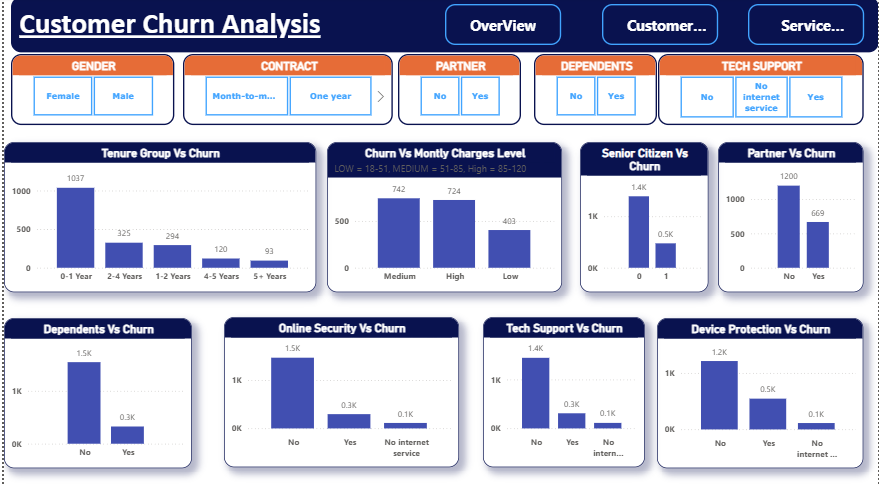

The page's visual inventory and layout, read from the dashboard file:
{"tool":"powerbi","page":{"name":"Customer Segmentation`","canvas":[1280,720],"ordinal":1},"visuals":[{"type":"textbox","box":[10.1,0,1269.9,80.6],"z":0},{"type":"slicer","title":"GENDER","fields":{"Values":["Telco_Customer_Churn.gender"]},"box":[10.1,84,238.5,104.1],"z":7000},{"type":"slicer","title":"CONTRACT","fields":{"Values":["Telco_Customer_Churn.Contract"]},"box":[262,84,307.4,104.1],"z":8000},{"type":"slicer","title":"PARTNER","fields":{"Values":["Telco_Customer_Churn.Partner"]},"box":[576.2,84,179.7,104.1],"z":9000},{"type":"slicer","title":"DEPENDENTS","fields":{"Values":["Telco_Customer_Churn.Dependents"]},"box":[776.1,84,179.7,104.1],"z":10000},{"type":"slicer","title":"TECH SUPPORT","fields":{"Values":["Telco_Customer_Churn.TechSupport"]},"box":[957.5,84,300.7,104.1],"z":11000},{"type":"columnChart","title":"Tenure Group Vs Churn","fields":{"Category":["Telco_Customer_Churn.TenureGroup"],"Y":["Telco_Customer_Churn.ChurnCustomer"]},"box":[0,211.7,456.9,220.1],"z":11001},{"type":"columnChart","title":"Churn Vs Montly Charges Level","fields":{"Category":["Telco_Customer_Churn.ChargeCategory"],"Y":["Telco_Customer_Churn.ChurnCustomer"]},"box":[472,211.7,344.4,220.1],"z":11002},{"type":"columnChart","title":"Senior Citizen Vs Churn","fields":{"Category":["Telco_Customer_Churn.SeniorCitizen"],"Y":["Telco_Customer_Churn.ChurnCustomer"]},"box":[843.3,211.7,188.1,220.1],"z":11003},{"type":"columnChart","title":"Partner Vs Churn","fields":{"Category":["Telco_Customer_Churn.Partner"],"Y":["Telco_Customer_Churn.ChurnCustomer"]},"box":[1044.8,211.7,213.3,220.1],"z":11004},{"type":"columnChart","title":"Dependents Vs Churn","fields":{"Category":["Telco_Customer_Churn.Dependents"],"Y":["Telco_Customer_Churn.ChurnCustomer"]},"box":[0,470.3,275.5,220],"z":11005},{"type":"columnChart","title":"Online Security Vs Churn","fields":{"Y":["Telco_Customer_Churn.ChurnCustomer"],"Category":["Telco_Customer_Churn.OnlineSecurity"]},"box":[322.5,468.7,344.4,220.1],"z":11006},{"type":"columnChart","title":"Tech Support Vs Churn","fields":{"Y":["Telco_Customer_Churn.ChurnCustomer"],"Category":["Telco_Customer_Churn.TechSupport"]},"box":[700.5,468.7,236.9,220.1],"z":11007},{"type":"columnChart","title":"Device Protection Vs Churn","fields":{"Y":["Telco_Customer_Churn.ChurnCustomer"],"Category":["Telco_Customer_Churn.DeviceProtection"]},"box":[955.8,470.3,302.4,220.1],"z":11008},{"type":"actionButton","box":[645,10.1,169.7,60.5],"z":11009},{"type":"actionButton","box":[1088.5,10.1,169.7,60.5],"z":11010},{"type":"actionButton","box":[875.2,10.1,169.7,60.5],"z":11011}]}

Visuals, with their boxes in screenshot pixels (x1, y1, x2, y2), scaled from the page's 1280x720 canvas onto the 879x486 screenshot:
textbox: <bbox>7, 0, 878, 54</bbox>
"GENDER" slicer: <bbox>7, 57, 171, 127</bbox>
"CONTRACT" slicer: <bbox>180, 57, 391, 127</bbox>
"PARTNER" slicer: <bbox>396, 57, 519, 127</bbox>
"DEPENDENTS" slicer: <bbox>533, 57, 656, 127</bbox>
"TECH SUPPORT" slicer: <bbox>658, 57, 864, 127</bbox>
"Tenure Group Vs Churn" columnChart: <bbox>0, 143, 314, 291</bbox>
"Churn Vs Montly Charges Level" columnChart: <bbox>324, 143, 561, 291</bbox>
"Senior Citizen Vs Churn" columnChart: <bbox>579, 143, 708, 291</bbox>
"Partner Vs Churn" columnChart: <bbox>717, 143, 864, 291</bbox>
"Dependents Vs Churn" columnChart: <bbox>0, 317, 189, 466</bbox>
"Online Security Vs Churn" columnChart: <bbox>221, 316, 458, 465</bbox>
"Tech Support Vs Churn" columnChart: <bbox>481, 316, 644, 465</bbox>
"Device Protection Vs Churn" columnChart: <bbox>656, 317, 864, 466</bbox>
actionButton: <bbox>443, 7, 559, 48</bbox>
actionButton: <bbox>747, 7, 864, 48</bbox>
actionButton: <bbox>601, 7, 718, 48</bbox>
